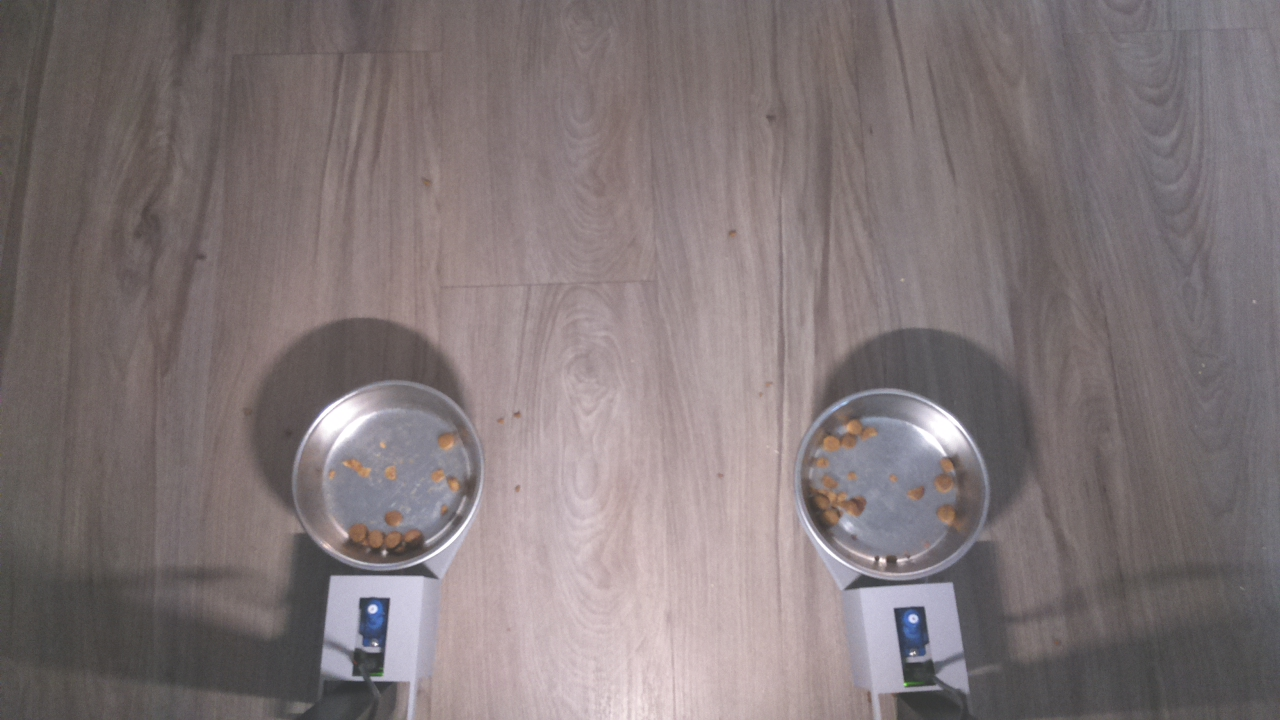open_bowl: (286, 376, 486, 577), (793, 384, 992, 583)
